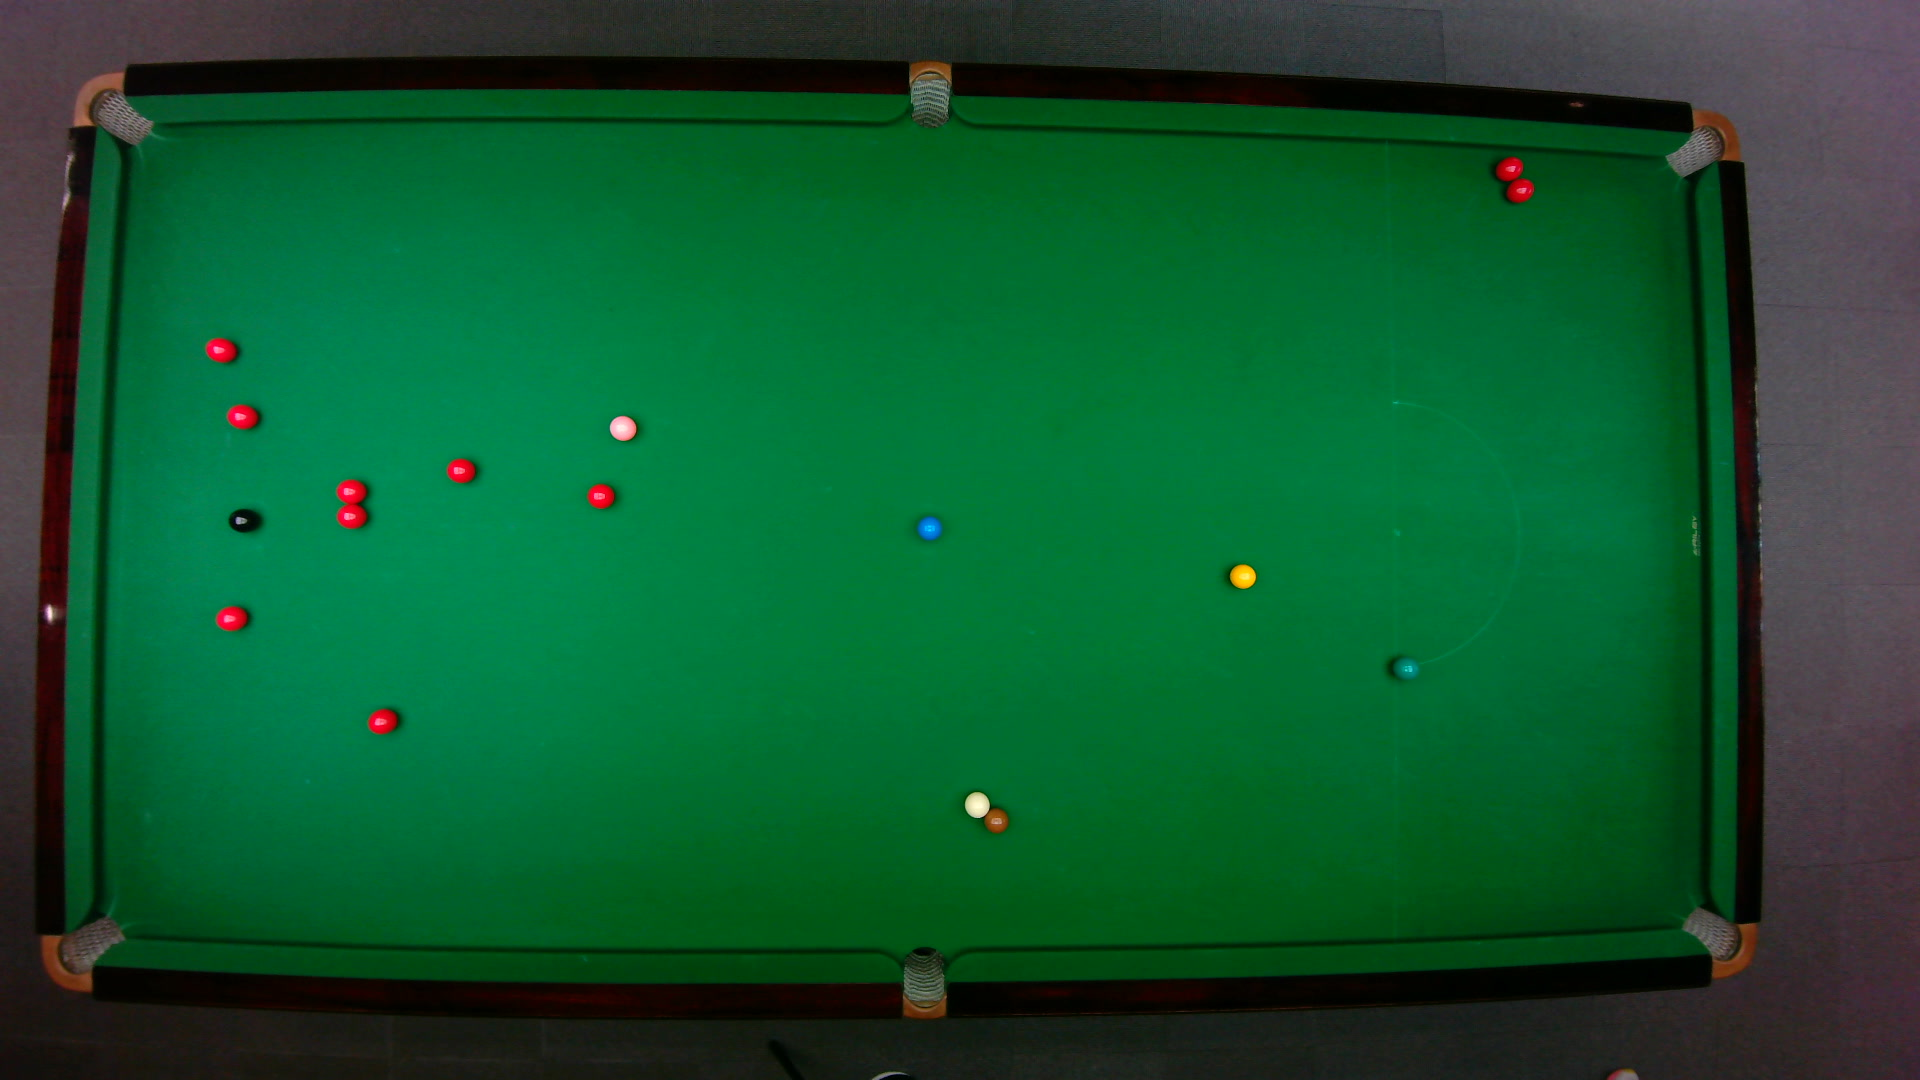bag: (40, 914, 127, 994), (73, 73, 154, 146), (1680, 905, 1759, 978), (1664, 108, 1742, 179), (902, 945, 945, 1021), (909, 61, 952, 129)
black: (228, 508, 260, 535)
blue: (916, 516, 943, 541)
brown: (984, 808, 1010, 833)
green: (1393, 657, 1422, 680)
pink: (609, 415, 638, 442)
red: (225, 404, 260, 431), (204, 338, 237, 364), (368, 708, 400, 735), (587, 483, 616, 510), (336, 479, 367, 505), (446, 458, 476, 484), (216, 607, 248, 632), (1495, 156, 1524, 182), (1506, 178, 1536, 203), (336, 505, 367, 529)
white: (964, 791, 992, 819)
yellow: (1229, 563, 1257, 589)
zone: (1391, 401, 1520, 670)
